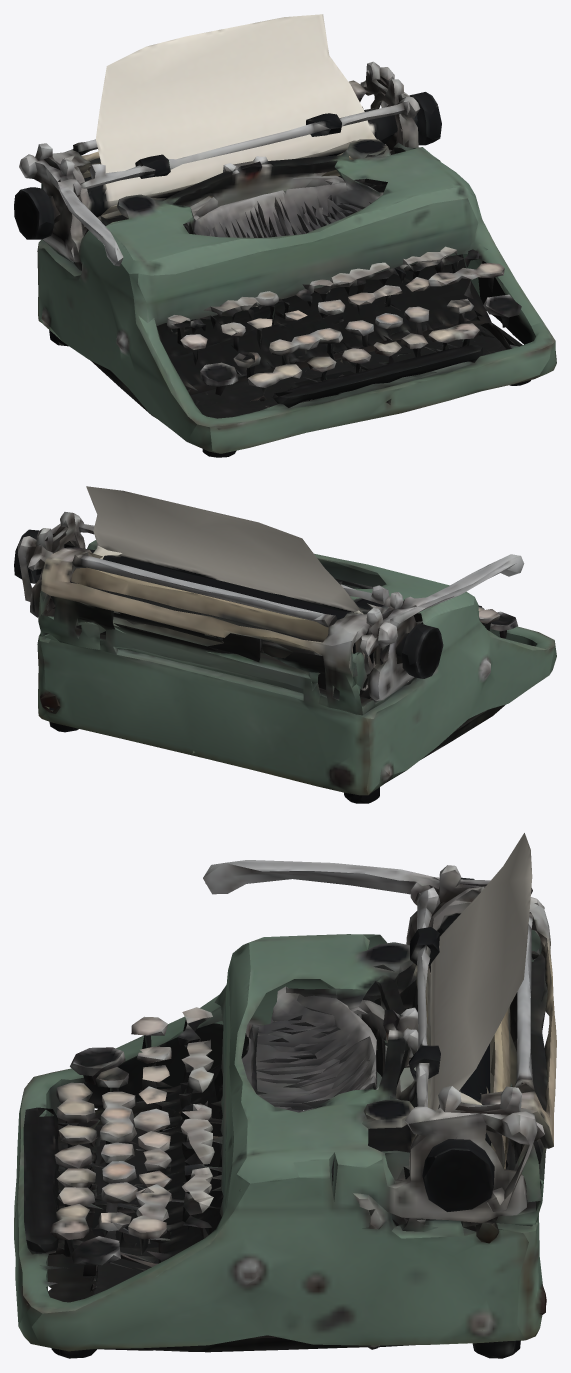
File: typewriter.glb
3 views of the same model, one above another, from view 1: azimuth 30°, elevation 25°; view 2: azimuth 150°, elevation 25°; view 3: azimuth 270°, elevation 25° (orthographic). The views are drawn at different scales.
Visible parts, largest first — view 1: world; view 2: world; view 3: world.
Boxes of the visible parts, x1,y1,x2,y2 form: world: (14, 14, 556, 457); world: (14, 486, 556, 803); world: (14, 833, 556, 1358).
Bounding box in the file's own units: 0.32 × 0.1968 × 0.2667.
Materials: 1 (1 with a texture image).
